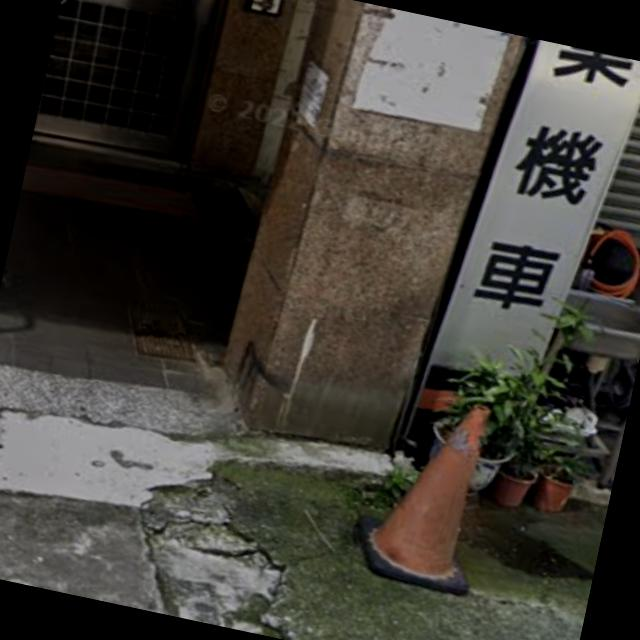cone: (356, 367, 504, 588)
